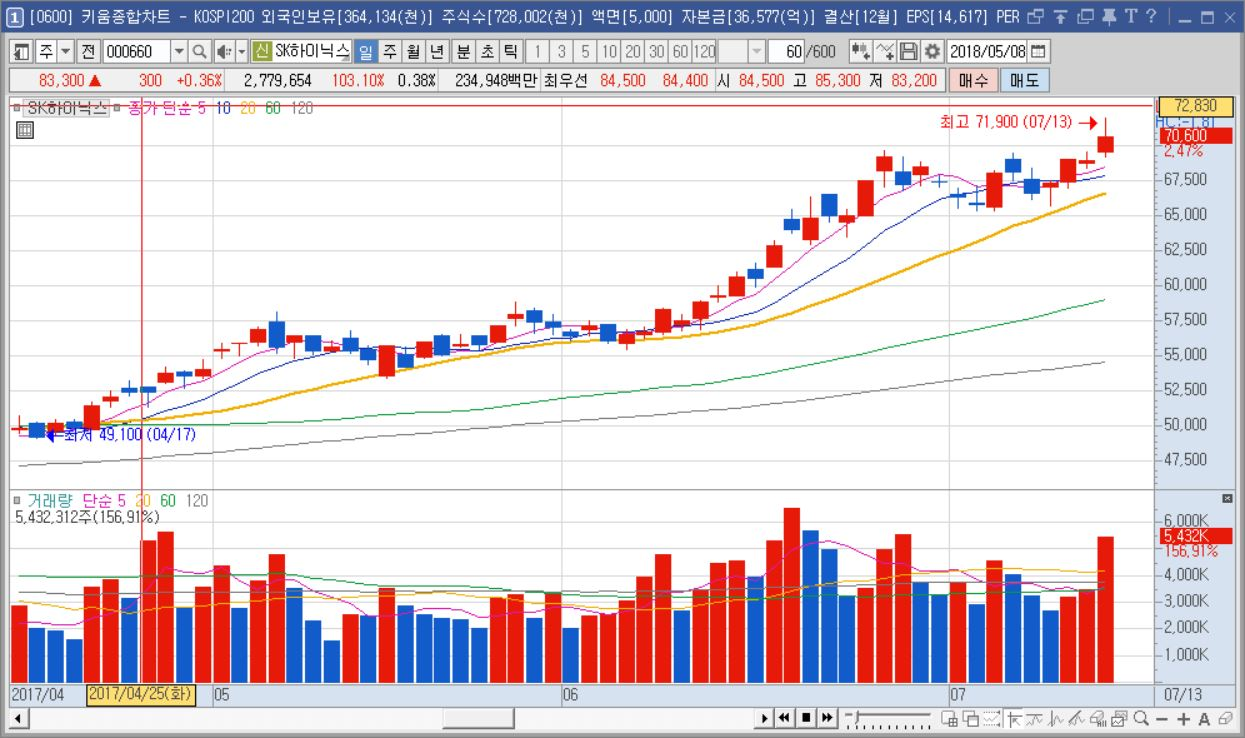up: (691, 109, 1115, 682)
